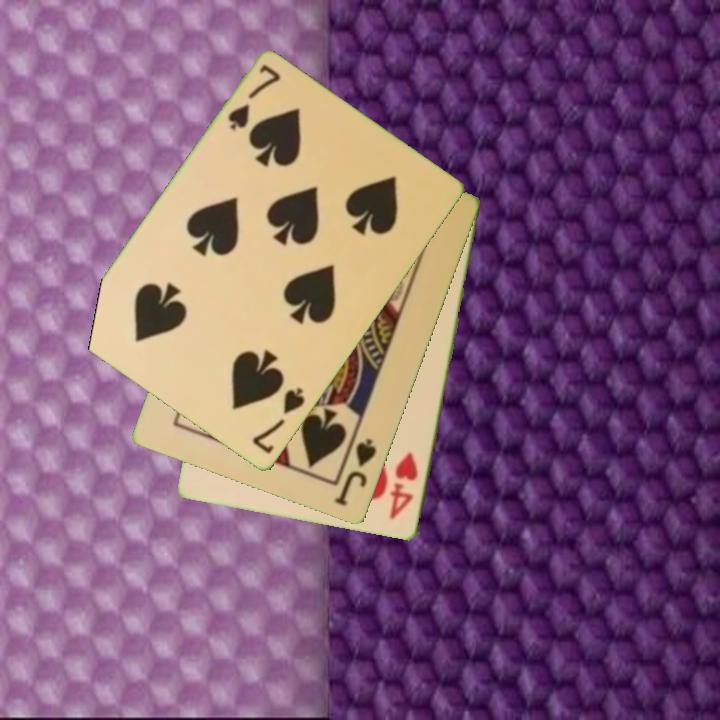4h: (386, 449, 421, 523)
7s: (249, 384, 309, 458), (224, 61, 284, 134)
Js: (331, 435, 380, 510)
